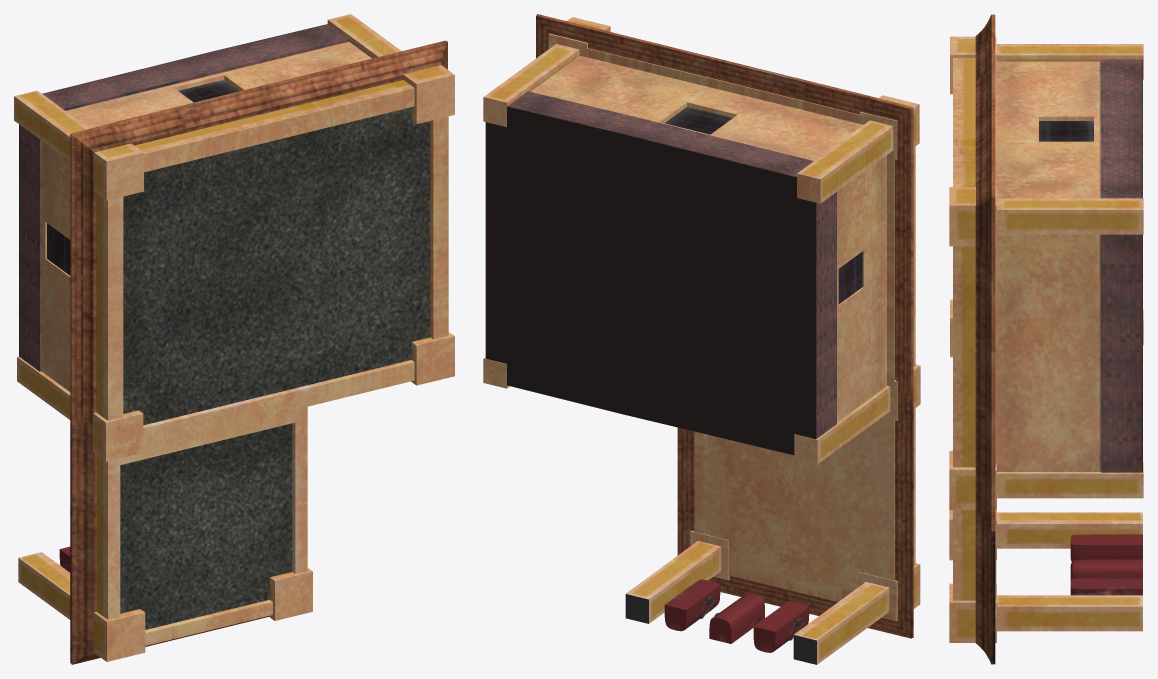
Rendered from 10072_Gas Station_V4_L3.obj.
The picture shows the model from 3 angles, left to right: view 1: azimuth 30°, elevation 25°; view 2: azimuth 150°, elevation 25°; view 3: azimuth 270°, elevation 25°; orthographic projection.
Parts seen in each view (by area): view 1: 10072_Gas_Station_V4; view 2: 10072_Gas_Station_V4; view 3: 10072_Gas_Station_V4.
Boxes of the visible parts, bbox=[...] form: 10072_Gas_Station_V4: bbox=[14, 14, 454, 664]; 10072_Gas_Station_V4: bbox=[483, 14, 920, 664]; 10072_Gas_Station_V4: bbox=[949, 14, 1143, 664].
Size of the model in its own units: 870 by 1175 by 386.
Materials: 1 (1 with a texture image).
